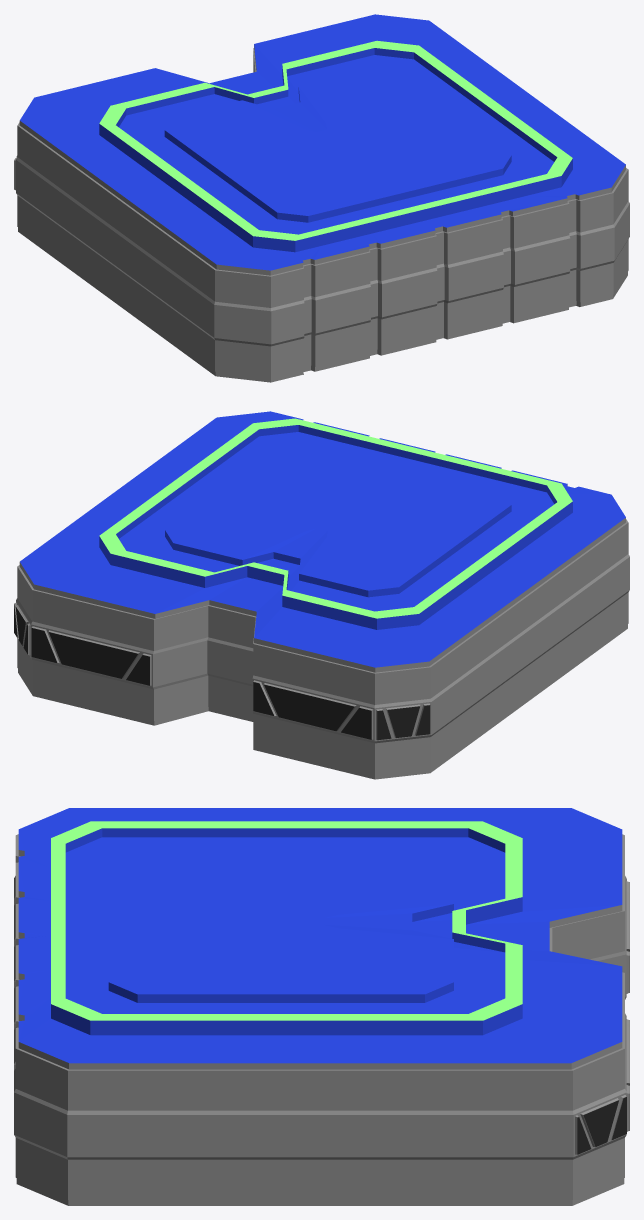
The model's file is Room1-2.FBX.
3 renders of one model, top to bottom at view 1: azimuth 30°, elevation 25°; view 2: azimuth 150°, elevation 25°; view 3: azimuth 270°, elevation 25°, orthographic. The views are drawn at different scales.
Visible parts, largest first — view 1: Walls, Walls001, Windows; view 2: Walls, Walls001, Windows; view 3: Walls, Walls001, Windows.
Boxes of the visible parts, box(x1,y1,x2,y2) form: Walls: box(20, 14, 625, 270); Walls001: box(17, 45, 628, 382); Windows: box(14, 155, 629, 346); Walls: box(20, 411, 625, 667); Walls001: box(17, 484, 628, 779); Windows: box(14, 554, 629, 743); Walls: box(18, 808, 622, 1063); Walls001: box(15, 834, 624, 1205); Windows: box(14, 876, 629, 1159).
Size of the model in its own units: 294 by 82.7 by 295.
